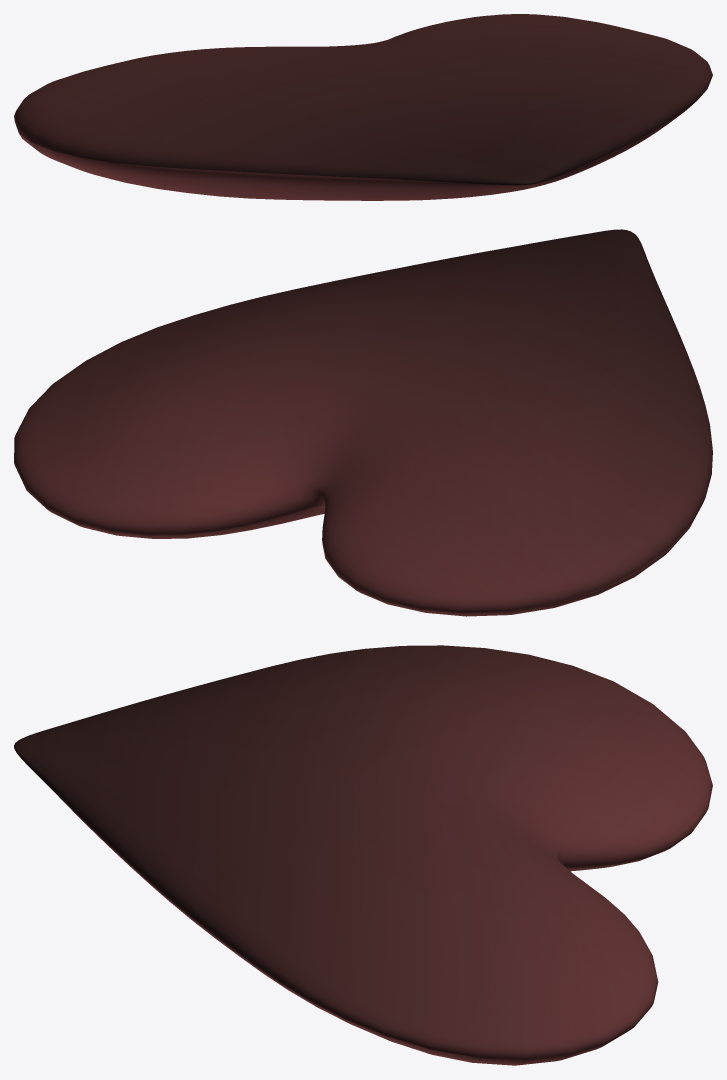
File: heart.glb
The picture shows the model from 3 angles, top to bottom: view 1: azimuth 30°, elevation 25°; view 2: azimuth 150°, elevation 25°; view 3: azimuth 270°, elevation 25°; orthographic projection. The views are drawn at different scales.
Parts seen in each view (by area): view 1: cc_t_heart2; view 2: cc_t_heart2; view 3: cc_t_heart2.
Part boxes in pixels (x1,y1,x2,y2): cc_t_heart2: (14,14,712,200); cc_t_heart2: (14,229,712,616); cc_t_heart2: (14,645,712,1065).
Size of the model in its own units: 0.1085 by 0.0267 by 0.0945.
1 material, 1 textured.
